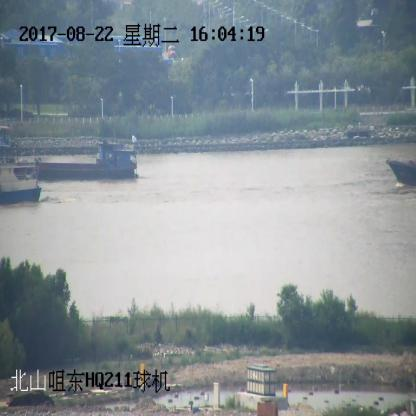Bulk Carrier: (0, 134, 140, 182)
